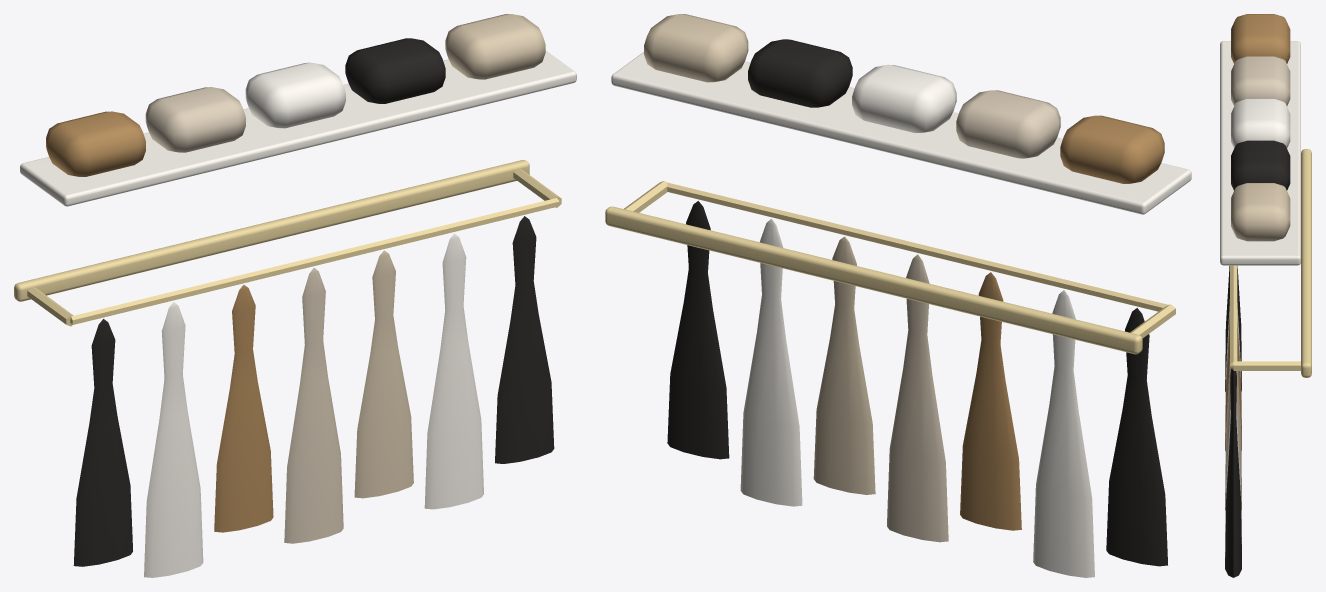
The model's file is rack_wall_rail.glb.
3 renders of one model, left to right at view 1: azimuth 30°, elevation 25°; view 2: azimuth 150°, elevation 25°; view 3: azimuth 270°, elevation 25°, orthographic. The views are drawn at different scales.
Visible parts, largest first — view 1: rack_wall_rail; view 2: rack_wall_rail; view 3: rack_wall_rail.
Part boxes in pixels (x1,y1,x2,y2): rack_wall_rail: (14,14,576,577); rack_wall_rail: (605,14,1191,577); rack_wall_rail: (1220,14,1311,577).
Size of the model in its own units: 1.9 by 1.6 by 0.34.
